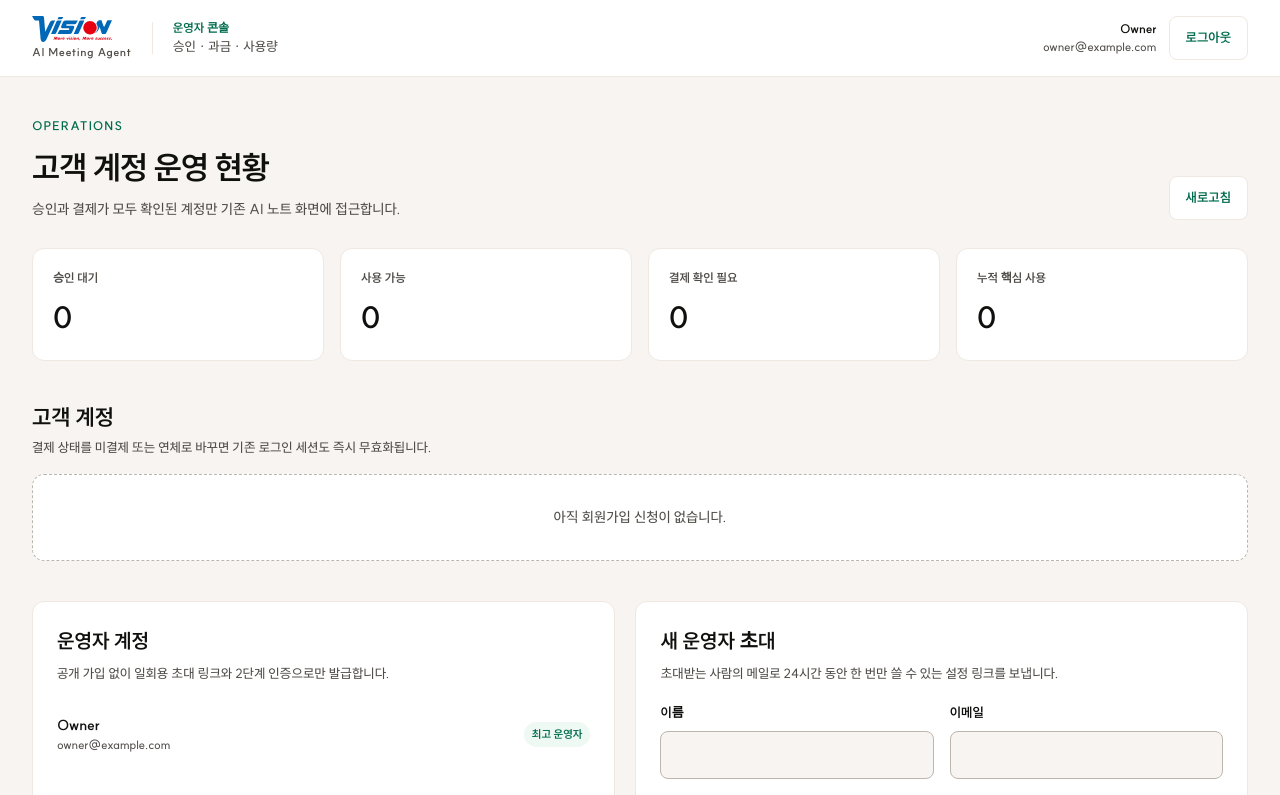
Test: AdminConsole operator invitation › tells the super admin the invitation was emailed and keeps the link behind a fallback
Step 1. Type "이우람" into the field labelled "이름" → x=797, y=754, box [660, 730, 934, 778]
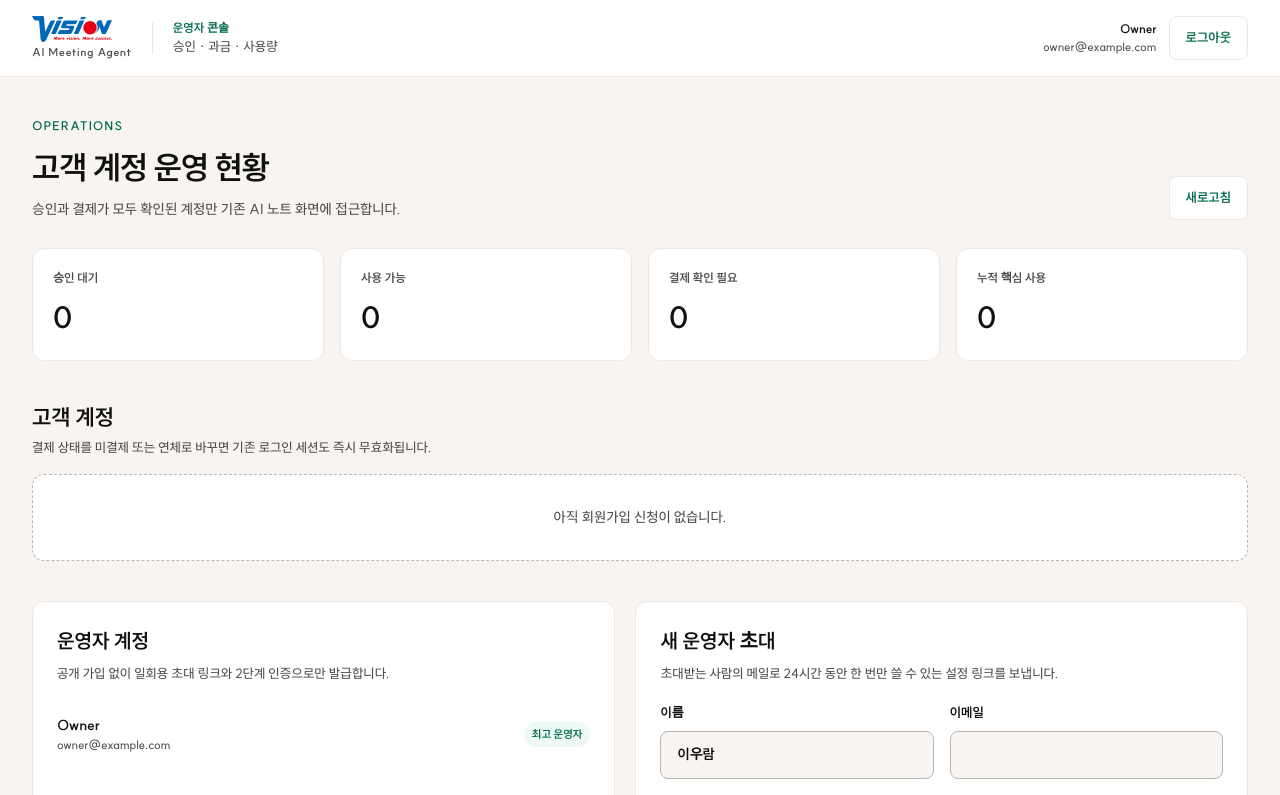
Step 2. Type "operator@example.com" into the field labelled "이메일" → x=1086, y=754, box [950, 730, 1223, 778]
(page scrolled)
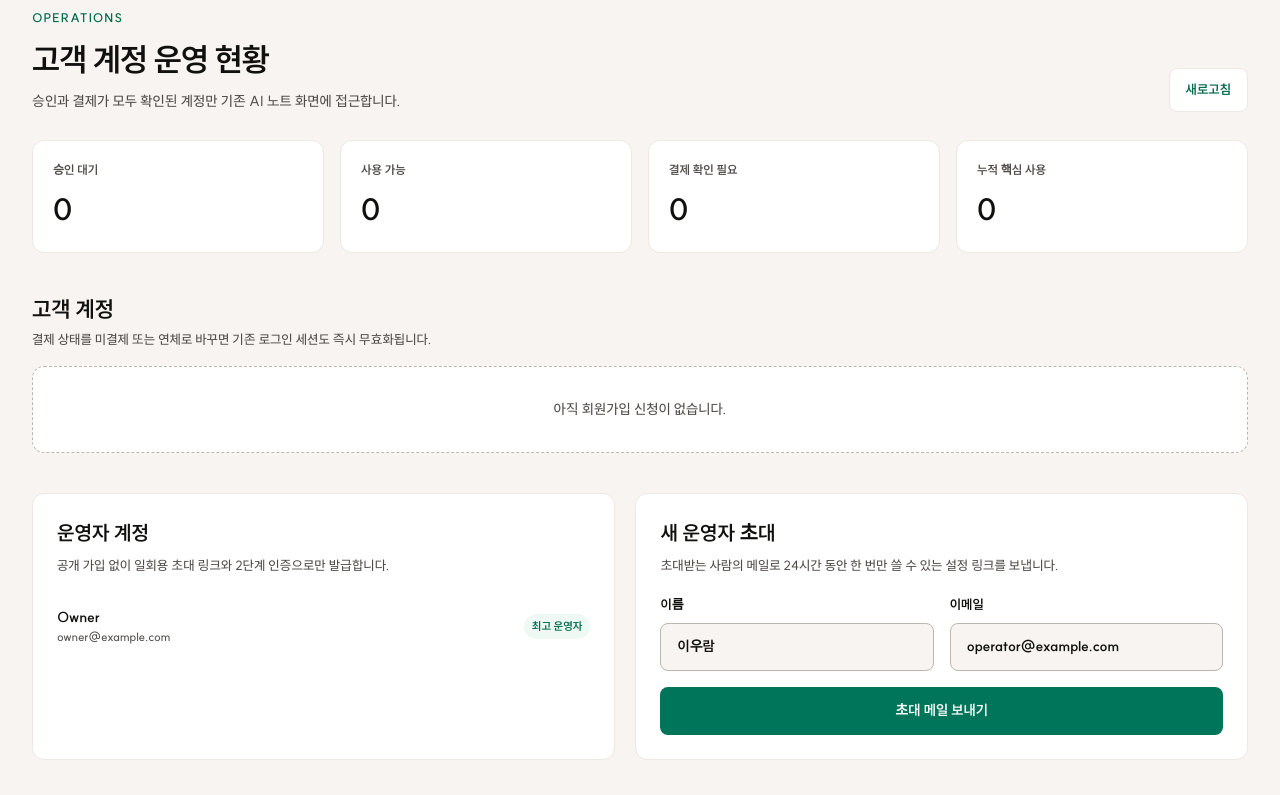
Step 3. Click the button "초대 메일 보내기" → x=942, y=710, box [660, 686, 1223, 734]
(page scrolled)
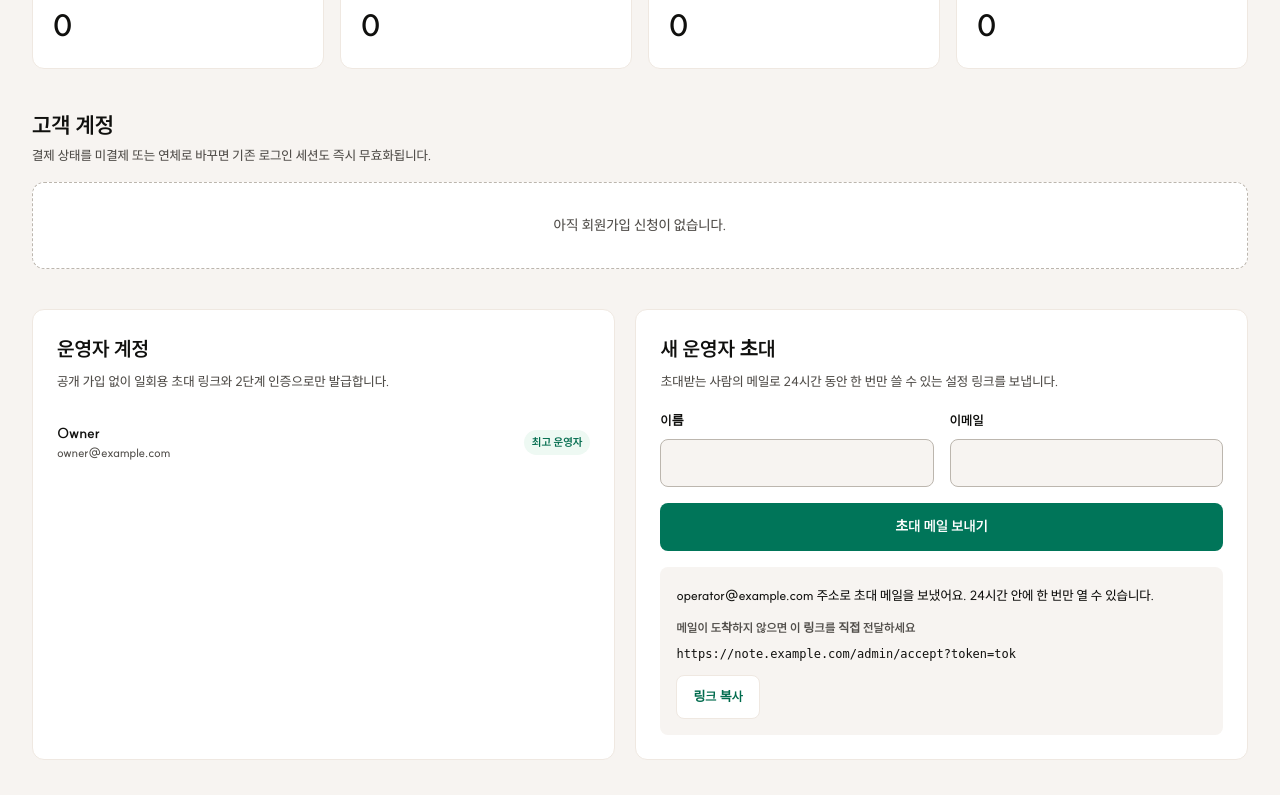
Expected: the text "operator@example.com 주소로 초대 메일을 보냈어요. 24시간 안에 한 번만 열 수 있습니다." is shown, [676, 582, 1207, 606]
Expected: the text "https://note.example.com/admin/accept?token=tok" is shown, [676, 646, 1016, 660]
